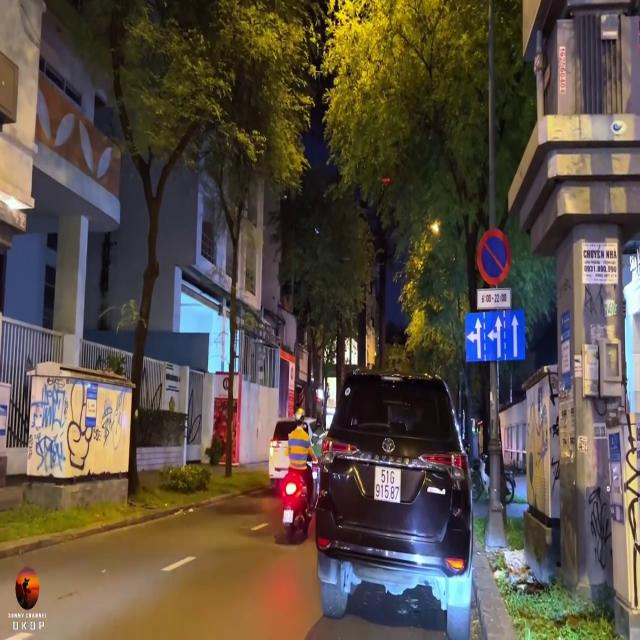bien_trang: (374, 466, 401, 504)
